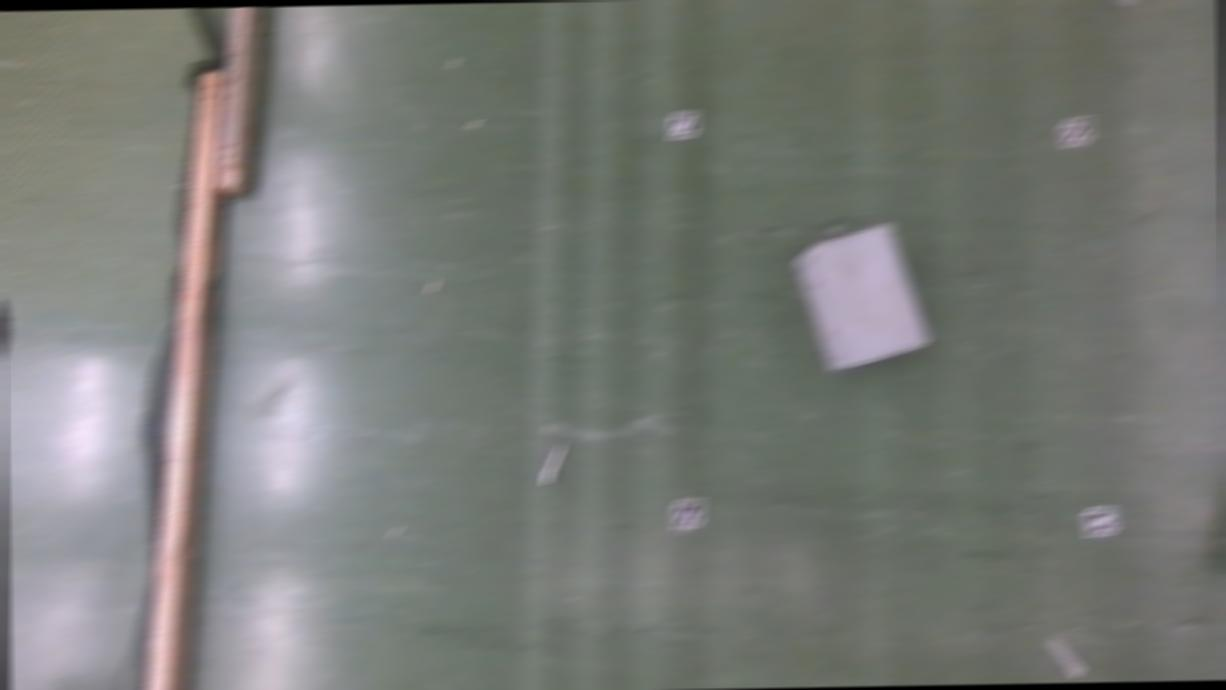probes: (1046, 635, 1082, 678), (540, 445, 564, 486)
rako: (791, 224, 929, 374)
